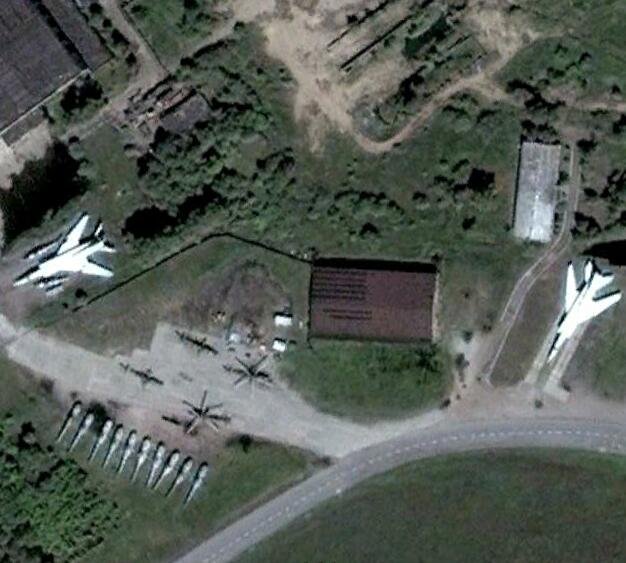A12: (540, 257, 624, 367), (11, 210, 117, 288)
